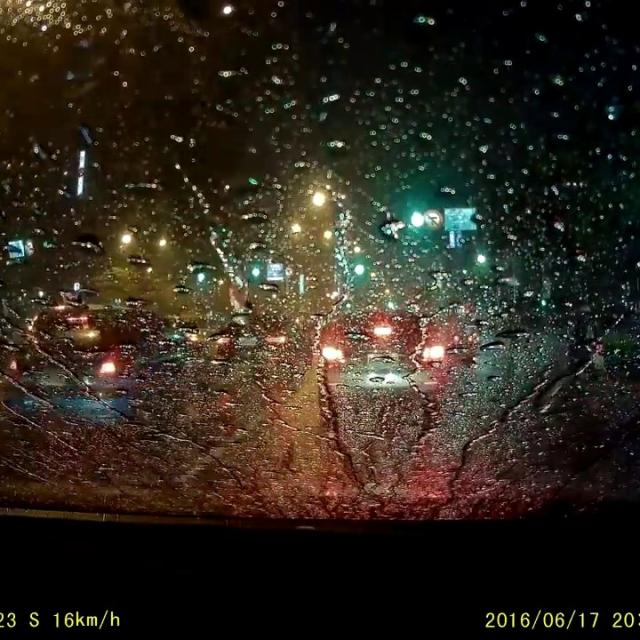Car: (1, 300, 193, 434), (312, 308, 446, 412), (208, 311, 313, 385)
